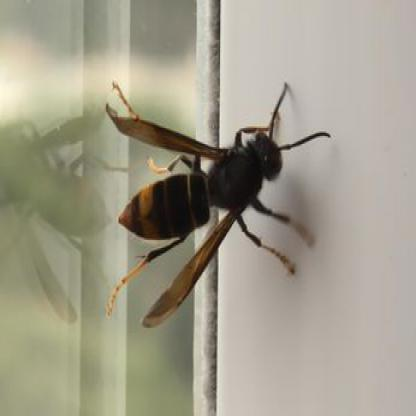Asian Hornet: (107, 79, 331, 340)
